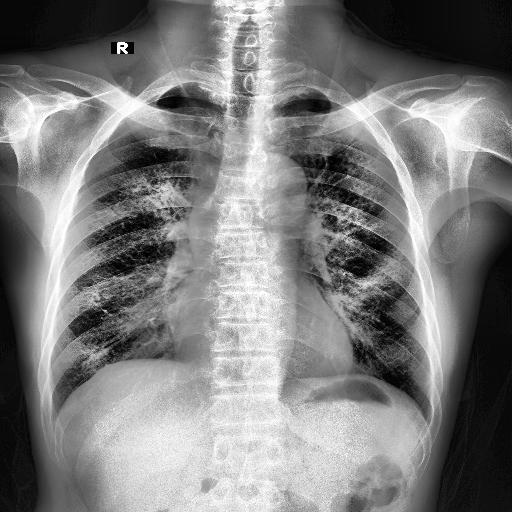0- Aortic enlargement: (240, 154, 310, 221), (252, 154, 306, 208), (248, 154, 306, 204)
5- ILD: (112, 172, 188, 216), (362, 249, 410, 293), (341, 147, 378, 193)
7- Lung Opacity: (358, 243, 420, 297)
